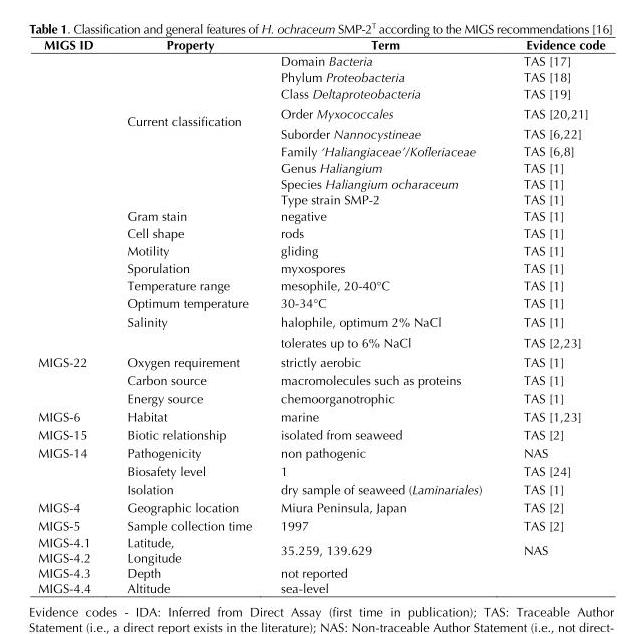table: (37, 37, 604, 595)
table column: (265, 37, 502, 595), (109, 37, 265, 595), (502, 37, 604, 595), (37, 37, 109, 595)
table column header: (37, 37, 604, 52)
table row: (37, 533, 604, 565), (37, 103, 604, 123), (37, 312, 604, 332), (37, 332, 604, 352), (37, 123, 604, 142), (37, 293, 604, 312), (37, 370, 604, 389), (37, 479, 604, 498), (37, 85, 604, 103), (37, 241, 604, 259), (37, 352, 604, 370), (37, 389, 604, 407), (37, 407, 604, 425), (37, 425, 604, 443), (37, 443, 604, 461), (37, 461, 604, 479), (37, 498, 604, 516), (37, 68, 604, 85), (37, 142, 604, 159), (37, 207, 604, 224), (37, 224, 604, 241), (37, 259, 604, 276), (37, 276, 604, 293), (37, 516, 604, 533), (37, 52, 604, 68), (37, 159, 604, 175), (37, 175, 604, 191), (37, 191, 604, 207), (37, 37, 604, 52), (37, 565, 604, 580), (37, 580, 604, 595)
table spanning cell: (109, 52, 265, 207), (37, 352, 109, 407), (37, 443, 109, 498)
